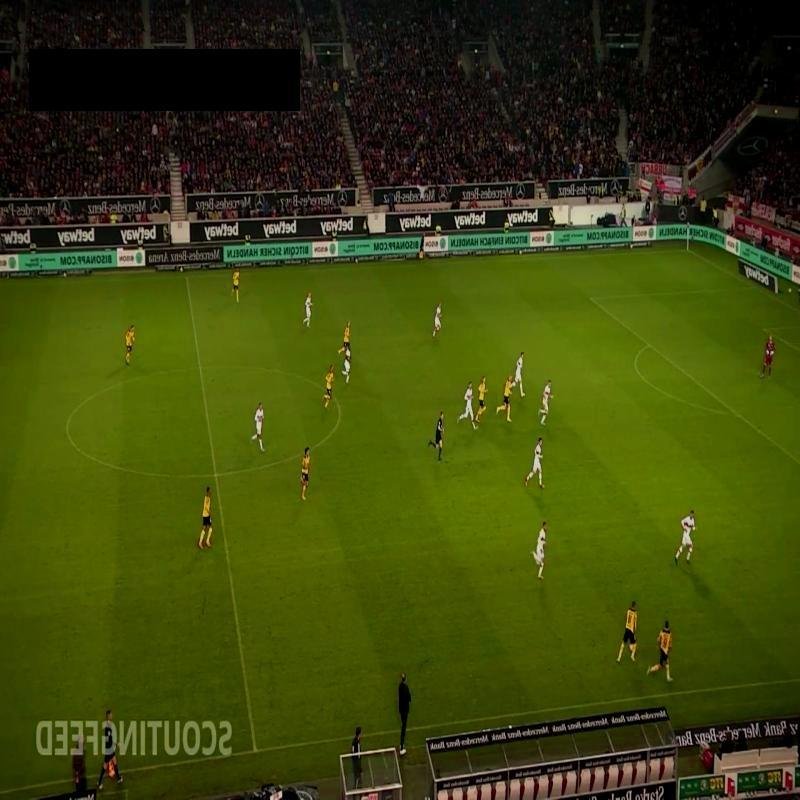1: (680, 243, 694, 257)
10: (642, 338, 656, 352)
11: (728, 406, 748, 424)
13: (179, 269, 193, 283)
14: (191, 359, 208, 376)
15: (206, 466, 225, 484)
16: (246, 742, 266, 760)
2: (747, 280, 761, 294)
7: (756, 321, 770, 335)
9: (584, 292, 598, 306)
c: (60, 420, 76, 439), (332, 402, 346, 416)
